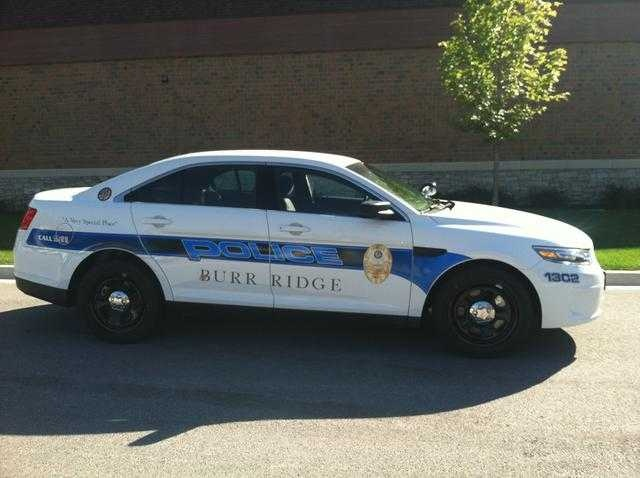Police Car: (20, 135, 620, 381)
